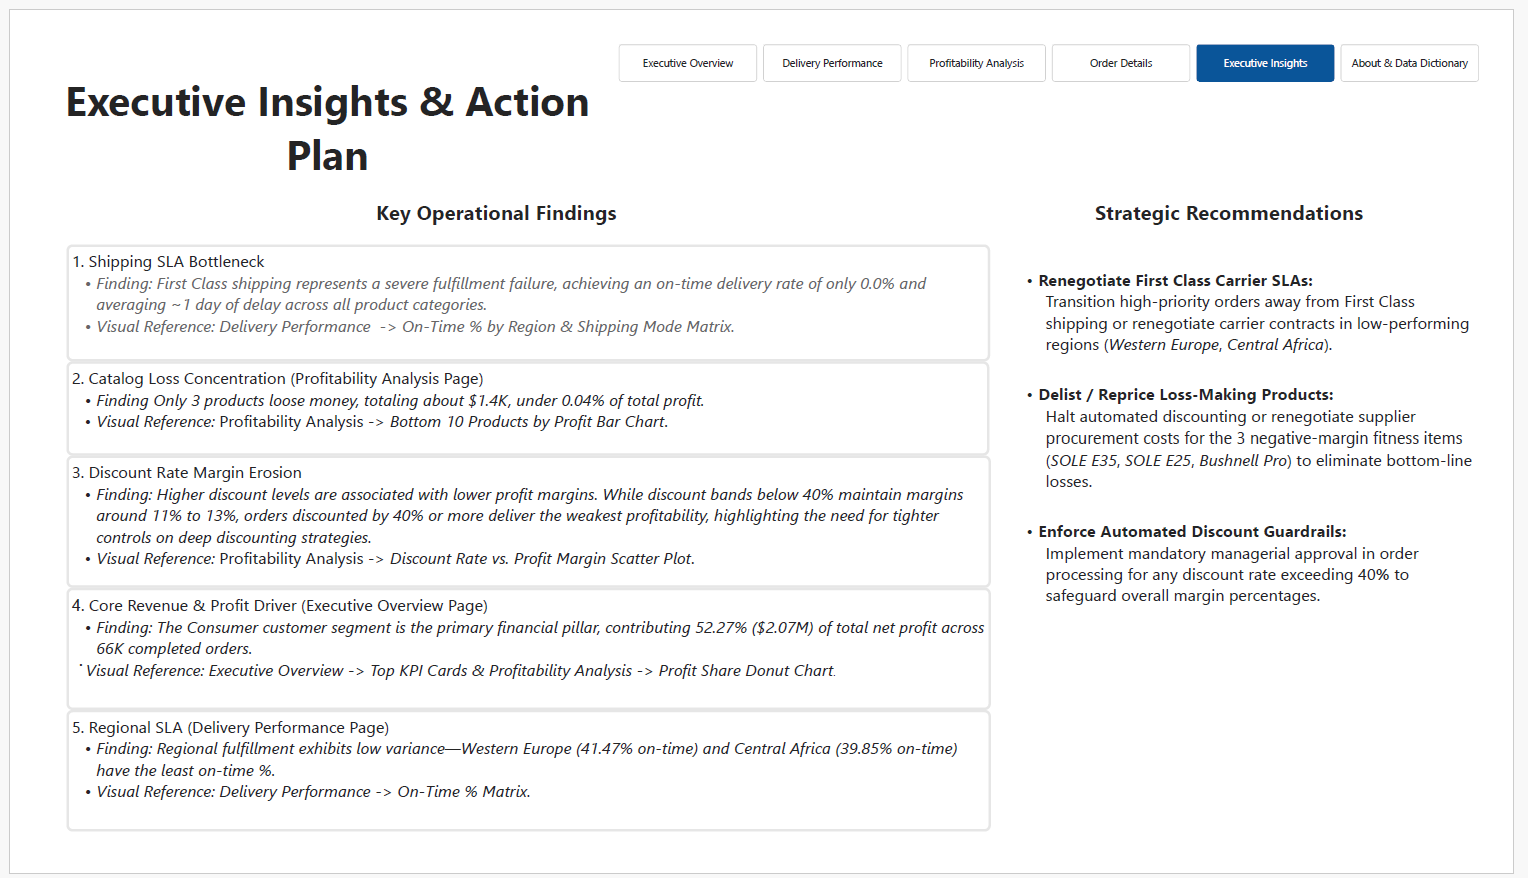

This screenshot's page, from the dashboard's own definition file:
{"tool":"powerbi","page":{"name":"Executive Insights","canvas":[1920,1080],"ordinal":5},"visuals":[{"type":"textbox","box":[9.6,0,763,202.7],"z":0},{"type":"textbox","box":[0,203,1225,80.2],"z":1000},{"type":"pageNavigator","box":[772.6,21,1126.4,49.7],"z":2000},{"type":"textbox","box":[1225,203,694.4,80.2],"z":3000},{"type":"textbox","box":[50.3,283,1208.6,153],"z":4000},{"type":"textbox","box":[49.7,891.2,1210.5,158.7],"z":4000},{"type":"textbox","box":[1289.9,313.9,609.1,696.1],"z":5000},{"type":"textbox","box":[49.7,436,1208.6,122.4],"z":5000},{"type":"textbox","box":[49.7,558.4,1210.5,172.1],"z":6000},{"type":"textbox","box":[49.7,730.5,1210.5,160.6],"z":7000}]}

Visuals, with their boxes in screenshot pixels (x1, y1, x2, y2), scaled from the page's 1920x1080 canvas onto the 1528x878 screenshot:
textbox: (x1=8, y1=0, x2=615, y2=165)
textbox: (x1=0, y1=165, x2=975, y2=230)
pageNavigator: (x1=615, y1=17, x2=1511, y2=57)
textbox: (x1=975, y1=165, x2=1527, y2=230)
textbox: (x1=40, y1=230, x2=1002, y2=354)
textbox: (x1=40, y1=725, x2=1003, y2=854)
textbox: (x1=1027, y1=255, x2=1511, y2=821)
textbox: (x1=40, y1=354, x2=1001, y2=454)
textbox: (x1=40, y1=454, x2=1003, y2=594)
textbox: (x1=40, y1=594, x2=1003, y2=724)
